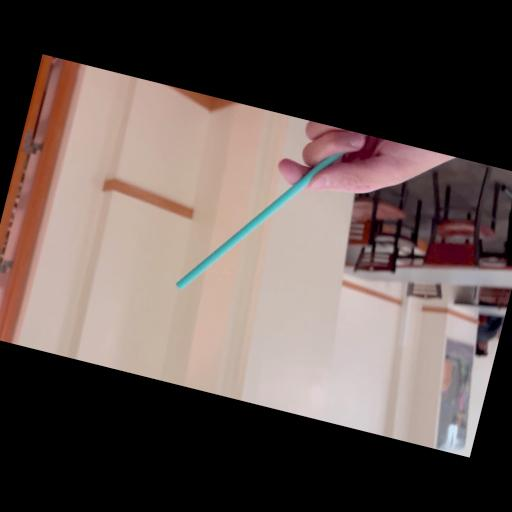straw: (180, 102, 356, 322)
